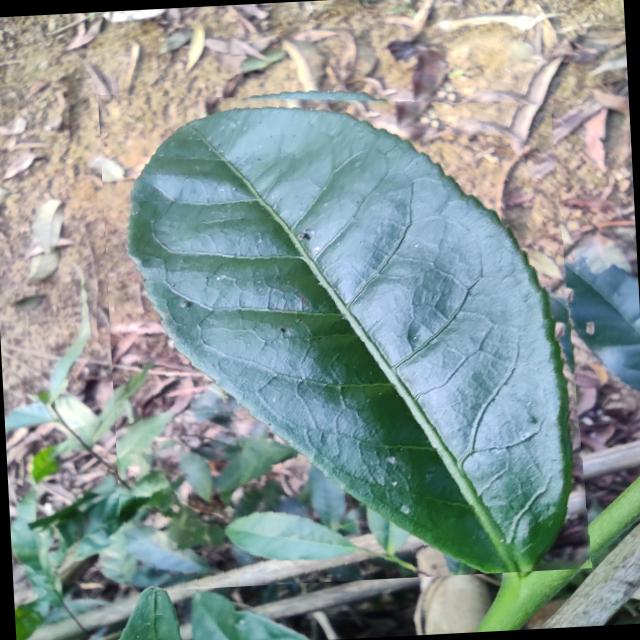Category D(7+ days, Not for Tea): (97, 68, 594, 592)
